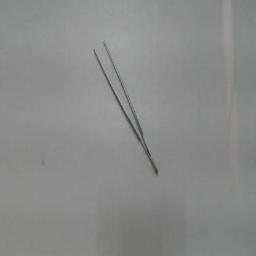Gillies Toothed Dissector: (88, 30, 164, 182)
